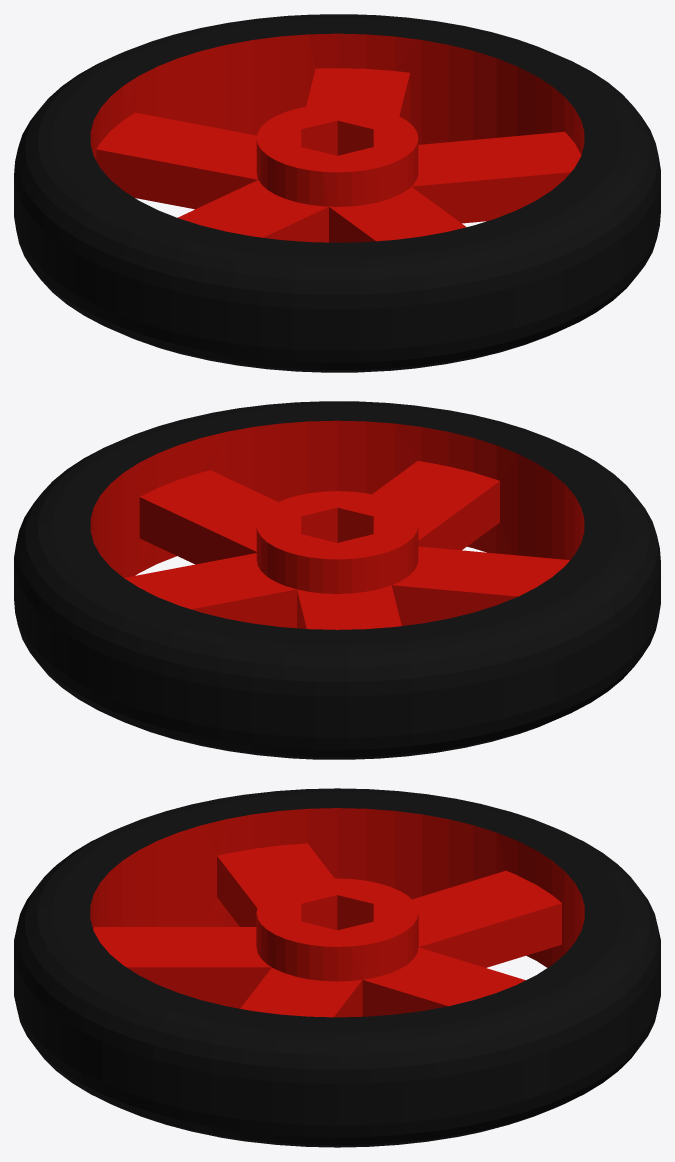
Rendered from WHEEL.fbx.
3 views of the same model, one above another, from view 1: azimuth 30°, elevation 25°; view 2: azimuth 150°, elevation 25°; view 3: azimuth 270°, elevation 25° (orthographic).
Visible parts, largest first — view 1: WHEEL; view 2: WHEEL; view 3: WHEEL.
Part boxes in pixels (box(x1,y1,x2,y2)): WHEEL: box(14, 14, 660, 372); WHEEL: box(14, 401, 660, 759); WHEEL: box(14, 788, 660, 1147).
Size of the model in its own units: 17 by 3.2 by 16.98.
